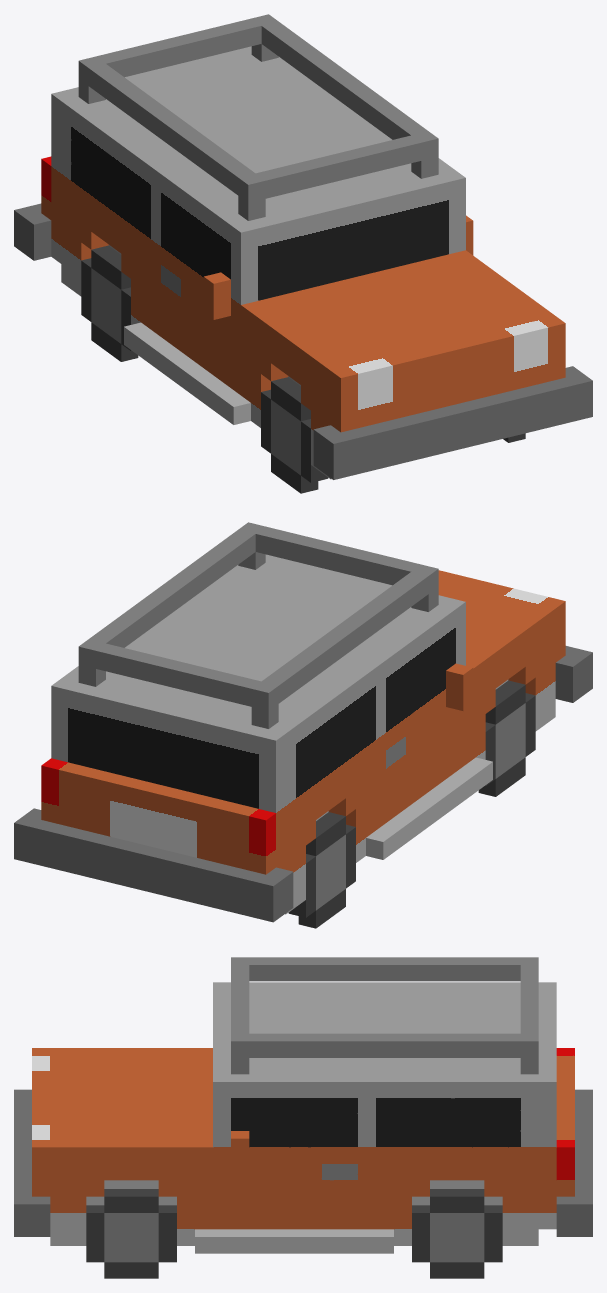
The model's file is veh_suv1.dae.
3 renders of one model, top to bottom at view 1: azimuth 30°, elevation 25°; view 2: azimuth 150°, elevation 25°; view 3: azimuth 270°, elevation 25°, orthographic. The views are drawn at different scales.
Parts seen in each view (by area): view 1: veh_suv1; view 2: veh_suv1; view 3: veh_suv1.
Part boxes in pixels (x1,y1,x2,y2): veh_suv1: (14, 14, 592, 493); veh_suv1: (14, 522, 592, 928); veh_suv1: (14, 957, 592, 1278).
Size of the model in its own units: 1.5 by 3.2 by 1.4.
1 material, 1 textured.
